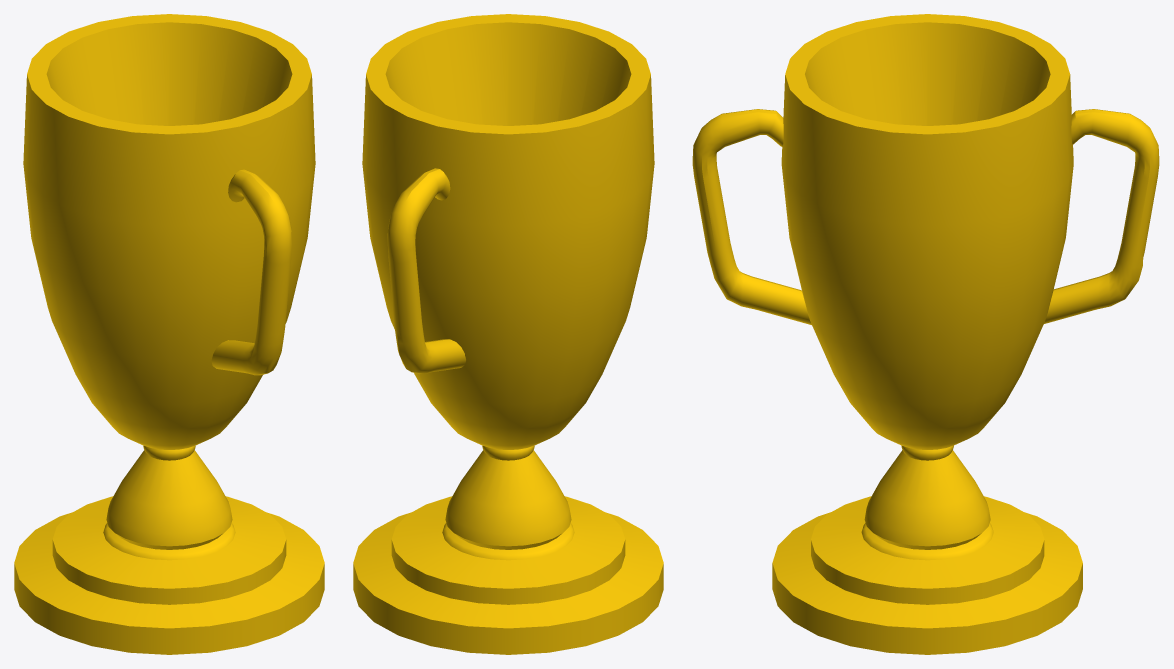
Rendered from cubok.fbx.
3 views of the same model, side by side, from view 1: azimuth 30°, elevation 25°; view 2: azimuth 150°, elevation 25°; view 3: azimuth 270°, elevation 25° (orthographic).
Visible parts, largest first — view 1: Circle.013; view 2: Circle.013; view 3: Circle.013.
Boxes of the visible parts, bbox=[...] form: Circle.013: bbox=[14, 14, 324, 654]; Circle.013: bbox=[353, 14, 663, 654]; Circle.013: bbox=[692, 14, 1159, 654].
Bounding box in the file's own units: 0.4169 × 0.7632 × 0.6271.
